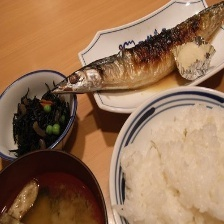dal: (6, 167, 106, 224)
